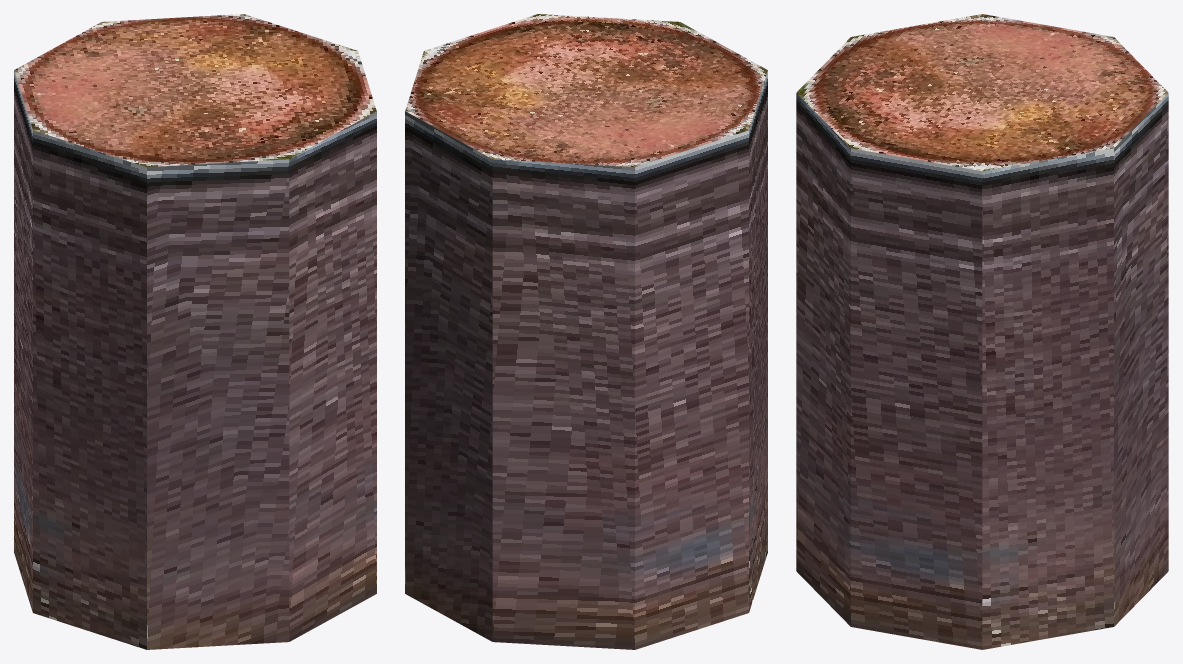
Rendered from barrel.glb.
3 renders of one model, left to right at view 1: azimuth 30°, elevation 25°; view 2: azimuth 150°, elevation 25°; view 3: azimuth 270°, elevation 25°, orthographic.
Visible parts, largest first — view 1: Barrel; view 2: Barrel; view 3: Barrel.
Part boxes in pixels (x1,y1,x2,y2): Barrel: (14, 14, 376, 649); Barrel: (405, 14, 767, 649); Barrel: (796, 14, 1168, 649).
Bounding box in the file's own units: 2 × 2.84 × 2.
Materials: 1 (1 with a texture image).
